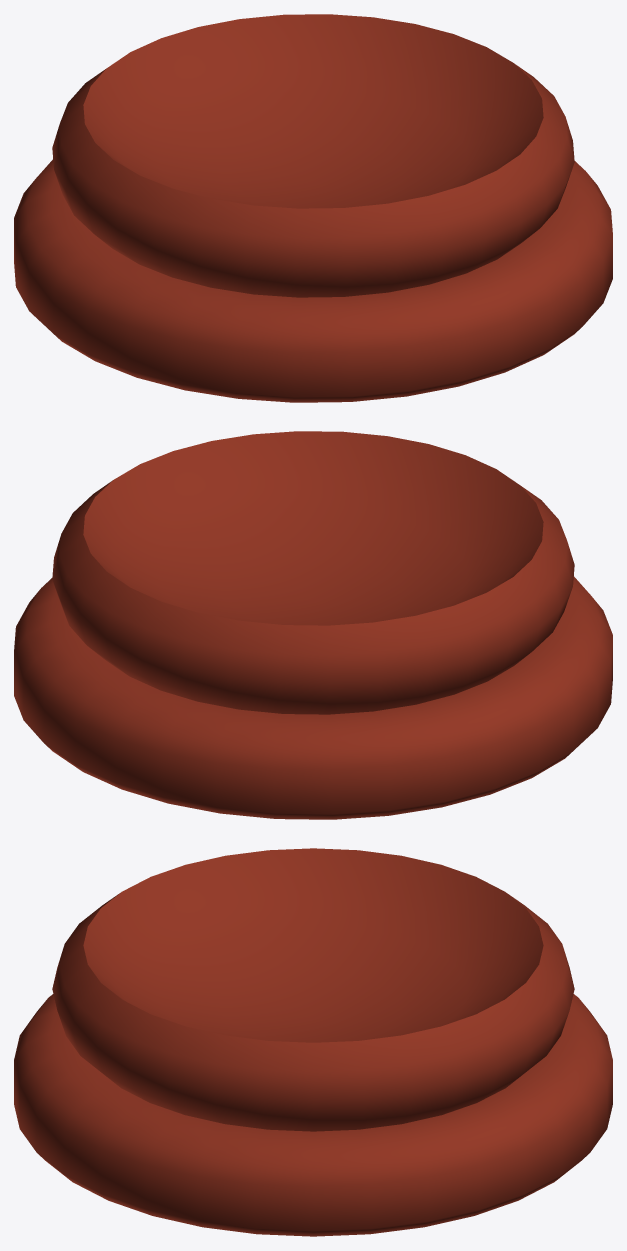
Rendered from bottom.glb.
3 views of the same model, one above another, from view 1: azimuth 30°, elevation 25°; view 2: azimuth 150°, elevation 25°; view 3: azimuth 270°, elevation 25° (orthographic).
Parts seen in each view (by area): view 1: Cylinder; view 2: Cylinder; view 3: Cylinder.
Part boxes in pixels (bbox=[...]): Cylinder: bbox=[14, 14, 612, 402]; Cylinder: bbox=[14, 431, 612, 819]; Cylinder: bbox=[14, 848, 612, 1236].
Size of the model in its own units: 10.79 by 3.35 by 10.79.
